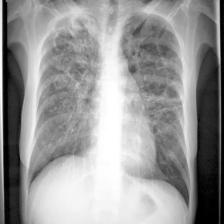tuberculosis: (28, 7, 196, 224)
